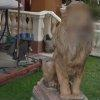Statue: (32, 6, 97, 100)
